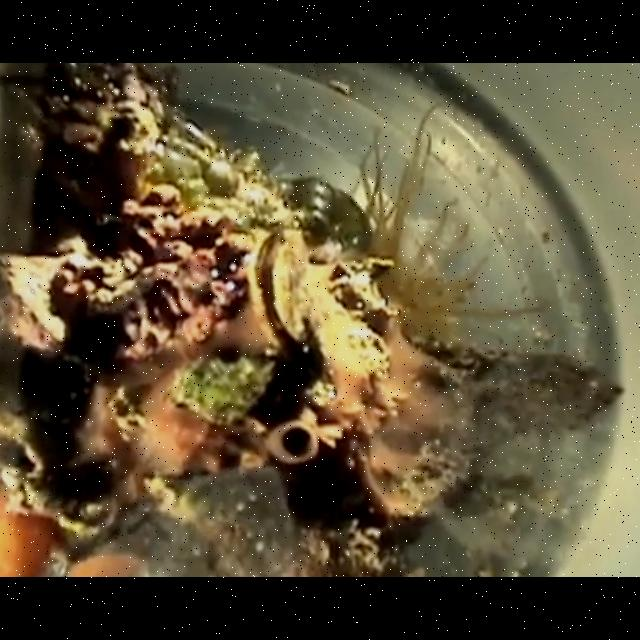Oyster-Open: (246, 227, 308, 353)
